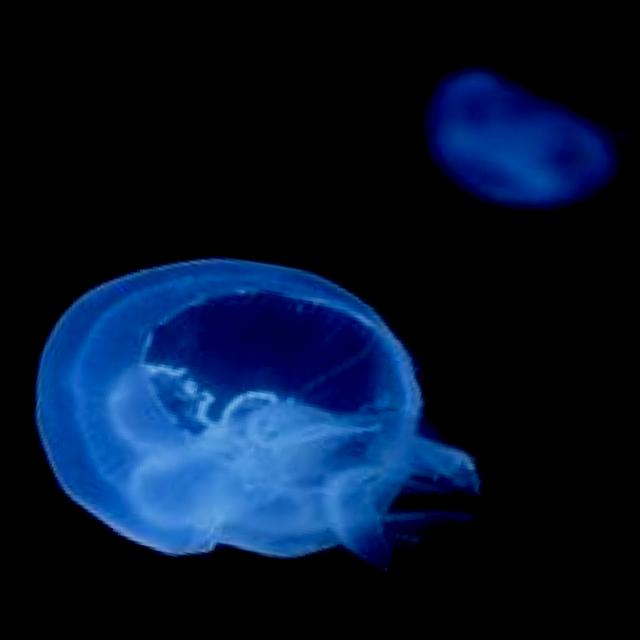Box-jellyfish: (0, 203, 533, 637), (397, 52, 639, 248)
